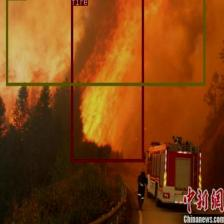fire: (71, 0, 144, 161)
smoke: (6, 0, 205, 85)
